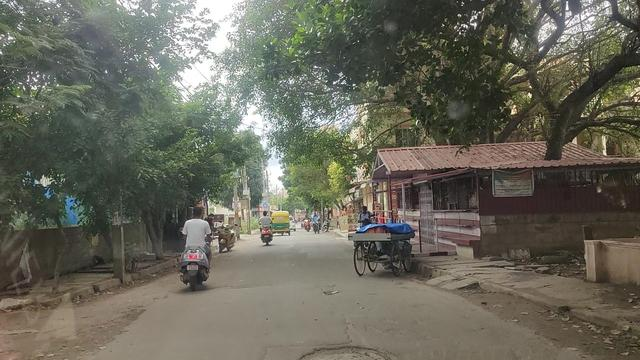LMV: (183, 204, 215, 299)
RoadDamages: (75, 310, 170, 345), (225, 274, 275, 292)
